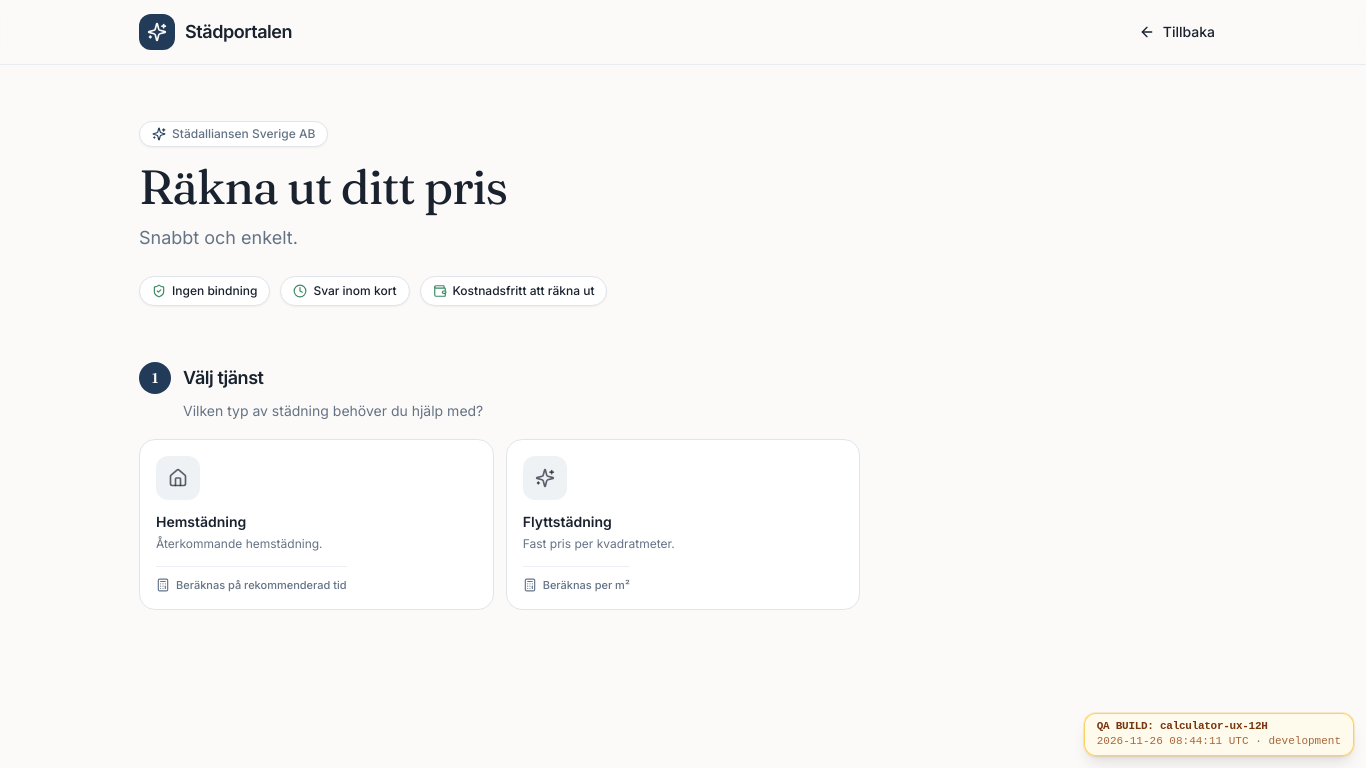
Scenario: PriceCalculator — generic add-ons public flow (GPM-10-C) › renders the Tillval step + add-on input for a service WITH active add-ons
This screenshot has width=1366, height=768.
Step 1. Click the button "Flyttstädning Fast pris per kvadratmeter. Beräknas per m²" → (545,478), box top-left (506, 439), bottom-right (860, 610)
(page scrolled)
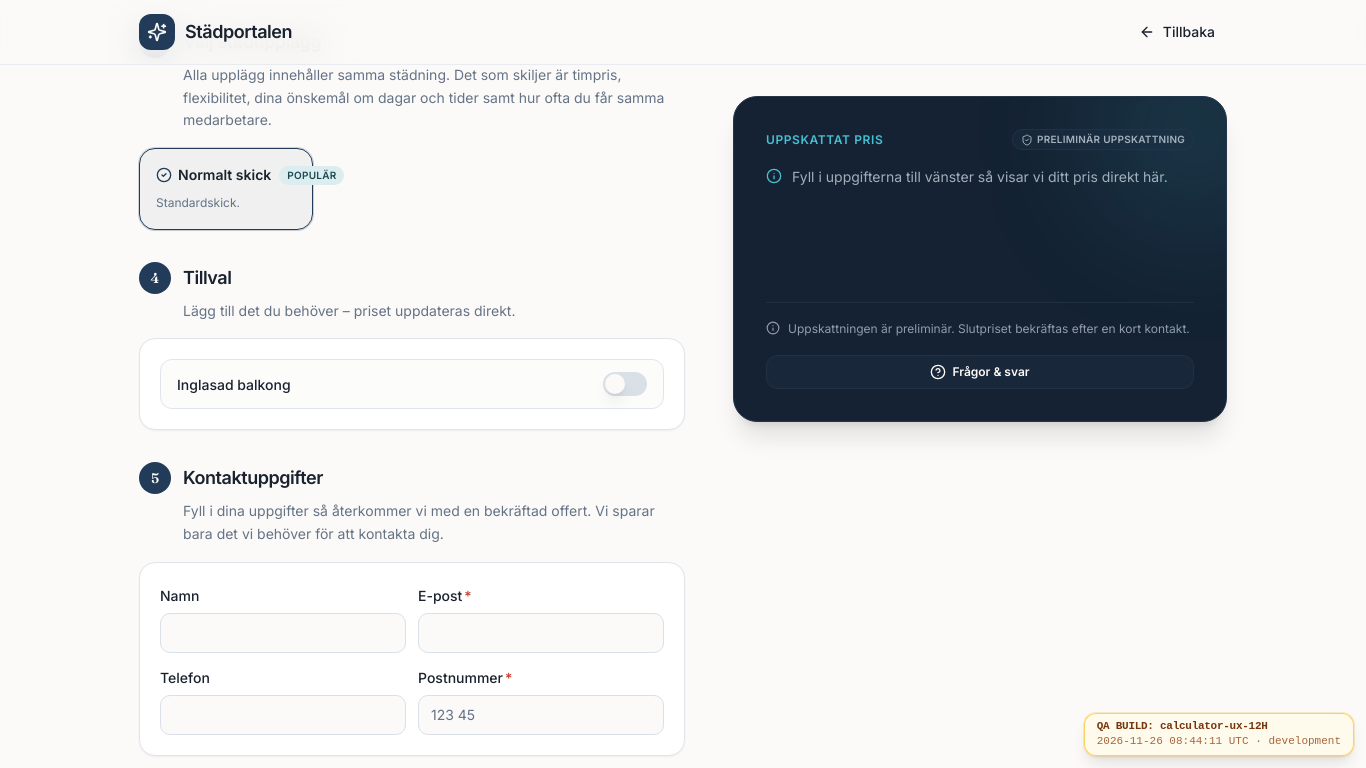
Now the heading "Tillval" is shown, box top-left (183, 264), bottom-right (232, 292)
Now the switch named "Inglasad balkong" is shown, box top-left (603, 372), bottom-right (647, 396)
